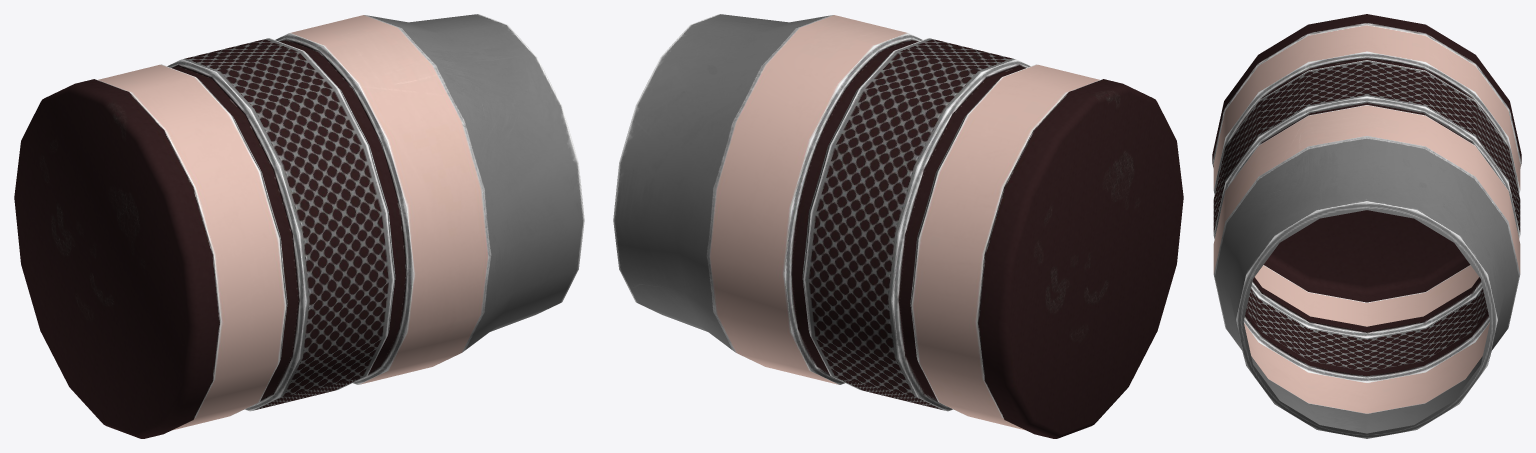
The model's file is pommel_15_c_c.glb.
3 renders of one model, left to right at view 1: azimuth 30°, elevation 25°; view 2: azimuth 150°, elevation 25°; view 3: azimuth 270°, elevation 25°, orthographic. The views are drawn at different scales.
Visible parts, largest first — view 1: pommel_15_c_c_lod0; view 2: pommel_15_c_c_lod0; view 3: pommel_15_c_c_lod0.
Part boxes in pixels (x1,y1,x2,y2): pommel_15_c_c_lod0: [14, 14, 584, 438]; pommel_15_c_c_lod0: [613, 14, 1183, 438]; pommel_15_c_c_lod0: [1212, 14, 1521, 438].
Size of what is drawn, in the model's own units: 0.0465 by 0.0357 by 0.0357.
Materials: 1 (1 with a texture image).
